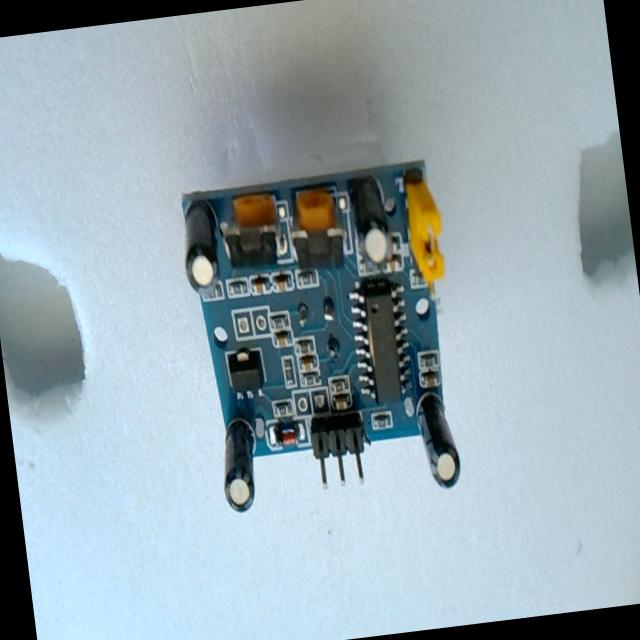Electrolytic capacitor: (414, 389, 464, 491), (215, 416, 262, 515), (177, 197, 224, 296), (348, 174, 396, 269)
IC: (348, 277, 416, 405)
pinheader: (307, 411, 374, 493)
